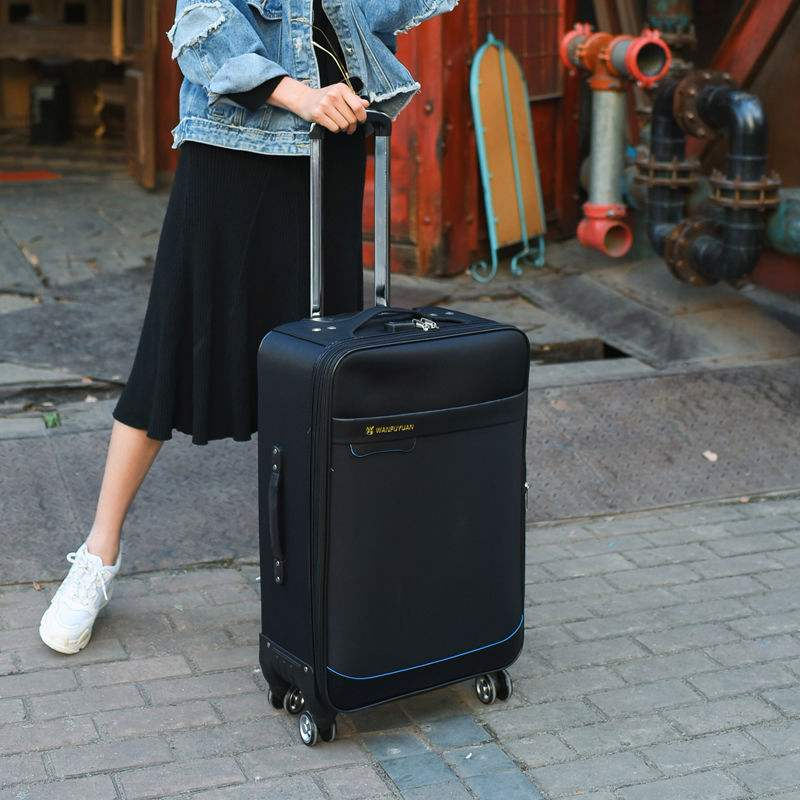box: (256, 307, 529, 710)
handle: (341, 305, 470, 334), (267, 445, 284, 587)
lock: (384, 317, 438, 333)
wheel: (298, 709, 337, 748), (475, 667, 514, 705), (266, 680, 307, 713)
